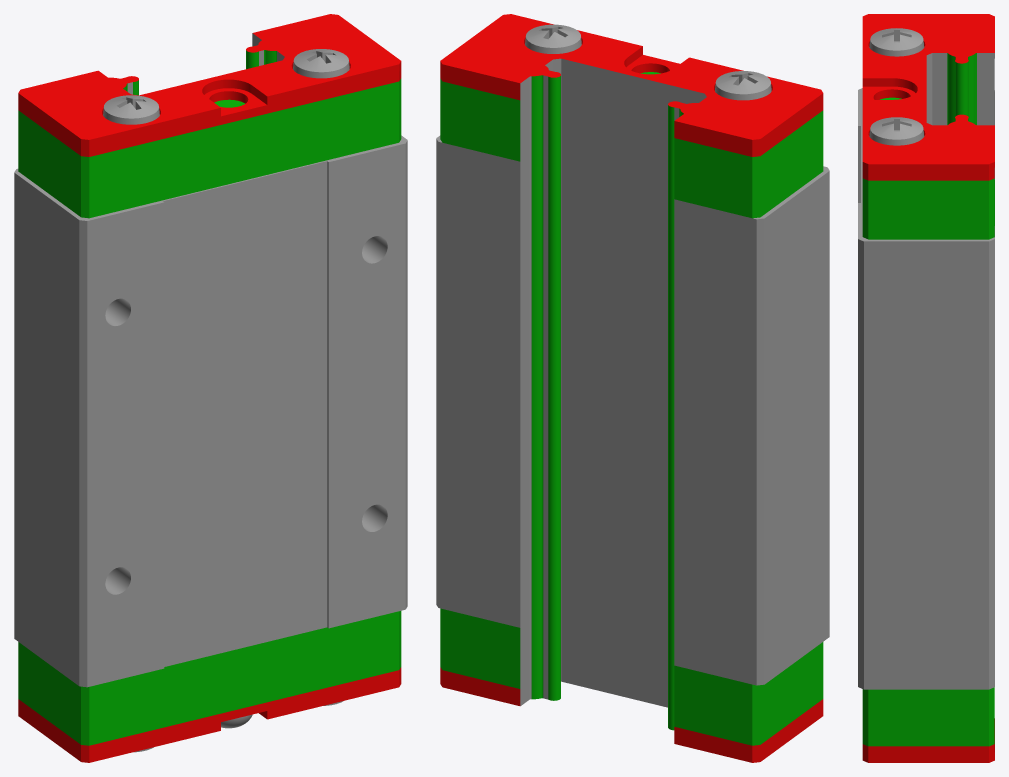
File: _2026_04_18_23_46_41_0005_body1.gltf
The picture shows the model from 3 angles, left to right: view 1: azimuth 30°, elevation 25°; view 2: azimuth 150°, elevation 25°; view 3: azimuth 270°, elevation 25°; orthographic projection. The views are drawn at different scales.
Parts seen in each view (by area): view 1: mesh35503, mesh35500, mesh35532, mesh35504, mesh35518, mesh35547, mesh35587, mesh35594, mesh35580, mesh35502, mesh35514, mesh35543 (+7 smaller); view 2: mesh35558, mesh35509, mesh35527, mesh35504, mesh35587, mesh35565, mesh35568, mesh35570, mesh35526, mesh35510, mesh35571, mesh35537 (+17 smaller); view 3: mesh35531, mesh35587, mesh35521, mesh35574, mesh35528, mesh35530, mesh35522, mesh35577, mesh35538, mesh35556, mesh35529, mesh35630 (+14 smaller).
Boxes of the visible parts, bbox=[...] form: mesh35503: bbox=[163, 161, 327, 666]; mesh35500: bbox=[87, 202, 164, 687]; mesh35532: bbox=[328, 143, 405, 628]; mesh35504: bbox=[14, 173, 79, 685]; mesh35518: bbox=[89, 81, 398, 218]; mesh35547: bbox=[89, 611, 398, 745]; mesh35587: bbox=[18, 14, 400, 139]; mesh35594: bbox=[89, 670, 399, 762]; mesh35580: bbox=[89, 64, 399, 156]; mesh35502: bbox=[79, 220, 87, 687]; mesh35514: bbox=[18, 110, 80, 216]; mesh35543: bbox=[18, 642, 80, 744]; mesh35558: bbox=[561, 58, 704, 707]; mesh35509: bbox=[674, 199, 756, 685]; mesh35527: bbox=[438, 142, 520, 627]; mesh35504: bbox=[764, 171, 829, 684]; mesh35587: bbox=[440, 14, 822, 139]; mesh35565: bbox=[548, 76, 560, 700]; mesh35568: bbox=[531, 75, 540, 699]; mesh35570: bbox=[520, 77, 529, 705]; mesh35526: bbox=[442, 81, 520, 161]; mesh35510: bbox=[674, 138, 752, 217]; mesh35571: bbox=[442, 609, 520, 688]; mesh35537: bbox=[674, 665, 752, 745]; mesh35531: bbox=[864, 241, 988, 689]; mesh35587: bbox=[862, 14, 994, 164]; mesh35521: bbox=[868, 180, 988, 239]; mesh35574: bbox=[868, 689, 988, 746]; mesh35528: bbox=[989, 239, 994, 689]; mesh35530: bbox=[858, 239, 863, 689]; mesh35522: bbox=[868, 164, 988, 180]; mesh35577: bbox=[868, 746, 988, 762]; mesh35538: bbox=[977, 53, 994, 125]; mesh35556: bbox=[932, 53, 947, 125]; mesh35529: bbox=[858, 88, 994, 241]; mesh35630: bbox=[870, 28, 923, 50].
Bounding box in the file's own units: 0.032 × 0.0602 × 0.012.
